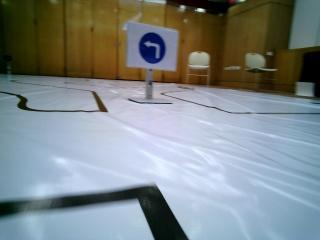left: (129, 27, 179, 66)
